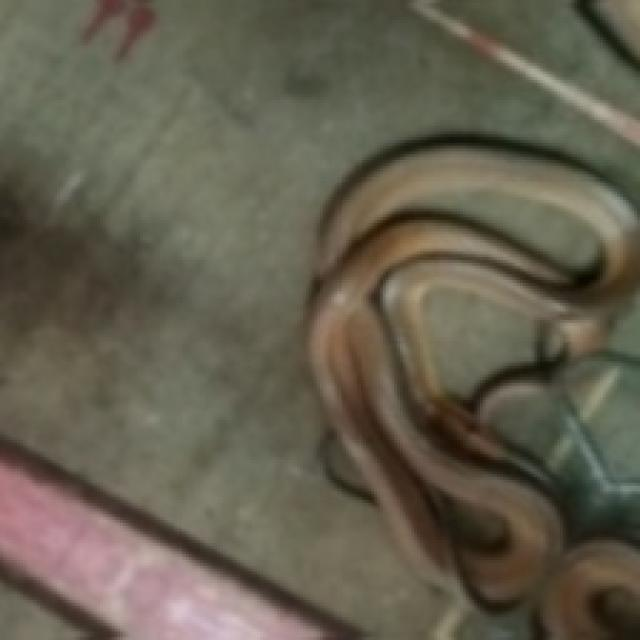red-tailed green ratsnake: (306, 134, 637, 637), (309, 134, 637, 637)
